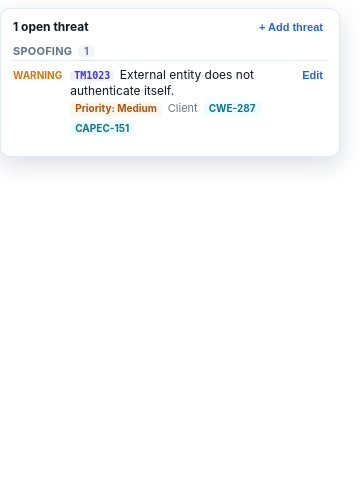
Test: ThreatsPanel › does not let a generated threat's category be edited, and says why
Click the button "Edit" at (313, 75), box [298,68,327,82]
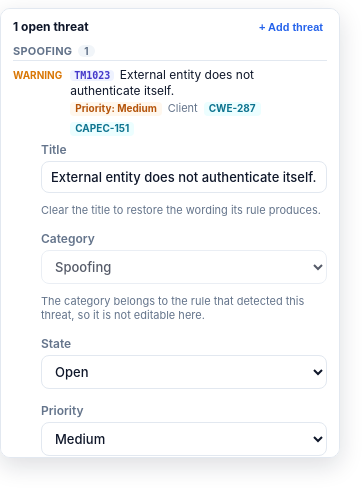
Expected: the dropdown labelled "Category" is disabled, [41,250,327,284]
Expected: the text "belongs to the rule that detected this threat" is shown, [41,294,304,322]
